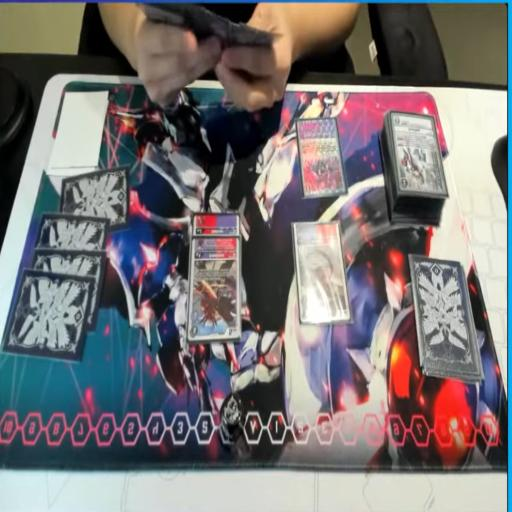card: (184, 236, 244, 341), (293, 217, 349, 321), (387, 113, 447, 201), (296, 114, 348, 197), (191, 213, 240, 240)
